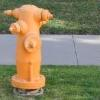a fire hydrant: (3, 3, 55, 96)
